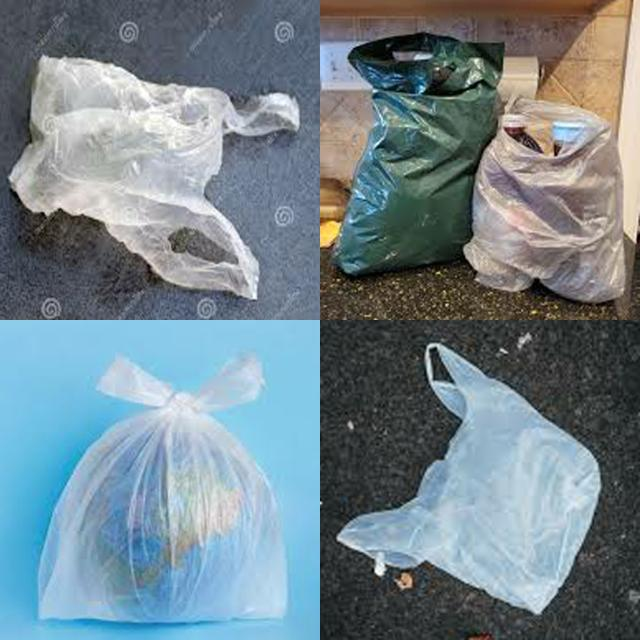Single-layer Plastic: (338, 344, 600, 614), (9, 56, 299, 299), (39, 355, 285, 622), (334, 32, 504, 275), (464, 99, 625, 302)
